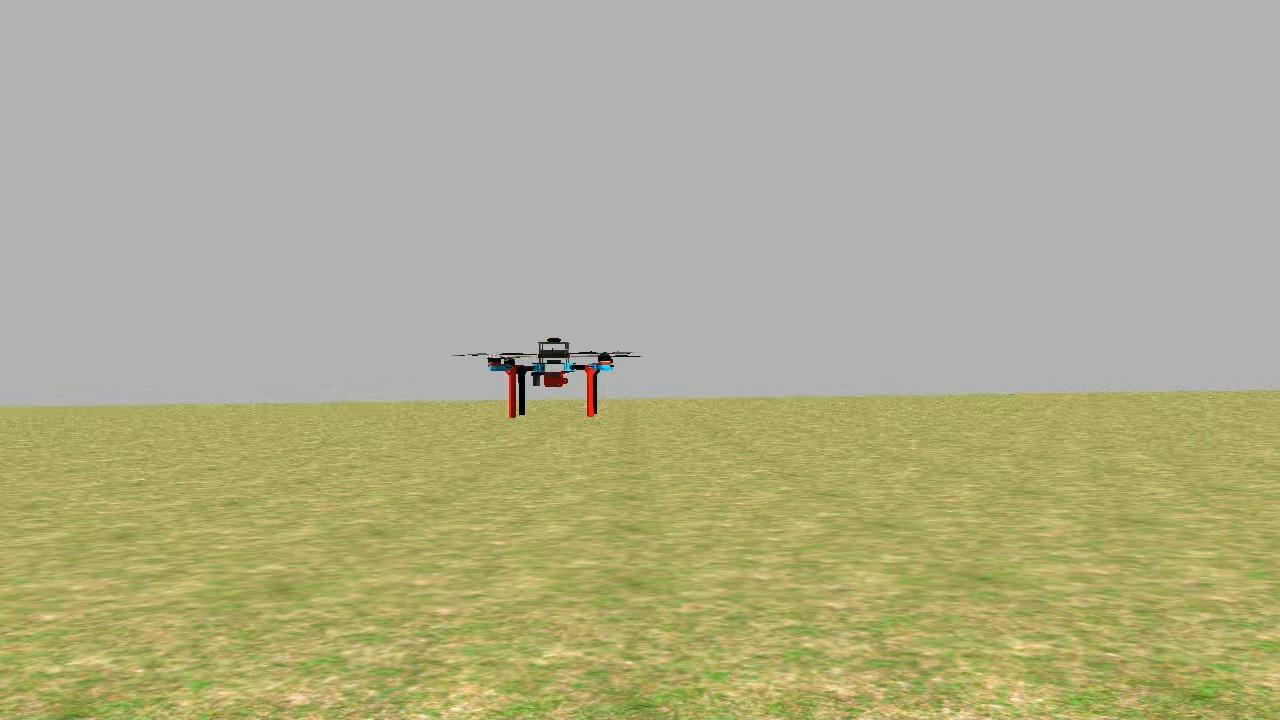UAV: (486, 328, 620, 422)
